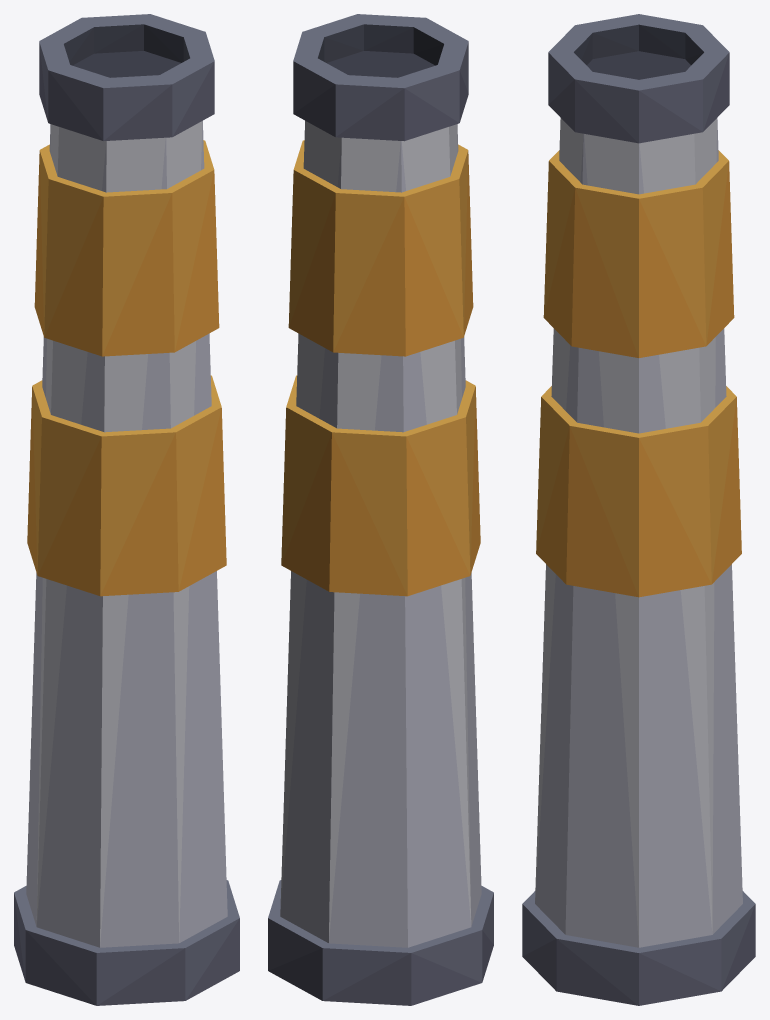
Rendered from smokestack.glb.
3 views of the same model, side by side, from view 1: azimuth 30°, elevation 25°; view 2: azimuth 150°, elevation 25°; view 3: azimuth 270°, elevation 25° (orthographic).
Parts seen in each view (by area): view 1: body; view 2: body; view 3: body.
Boxes of the visible parts, x1,y1,x2,y2 form: body: [14, 14, 239, 1005]; body: [268, 14, 493, 1005]; body: [522, 14, 755, 1005].
Bounding box in the file's own units: 7.95 × 34 × 7.95.
